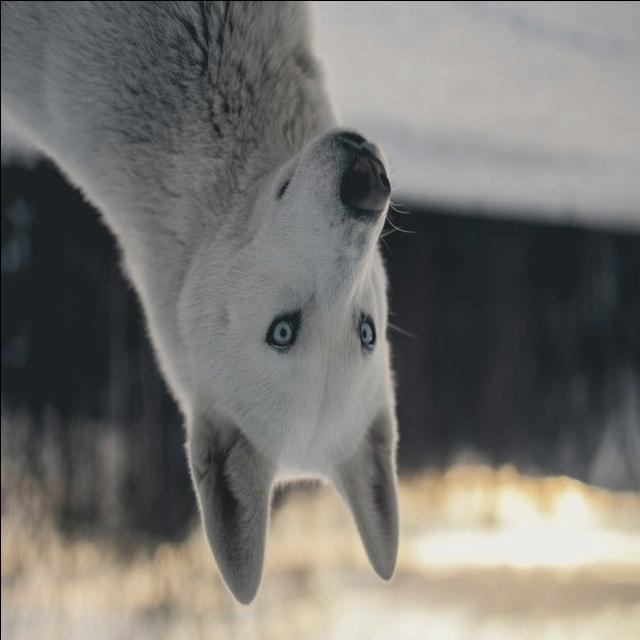husky: (1, 1, 412, 607)
